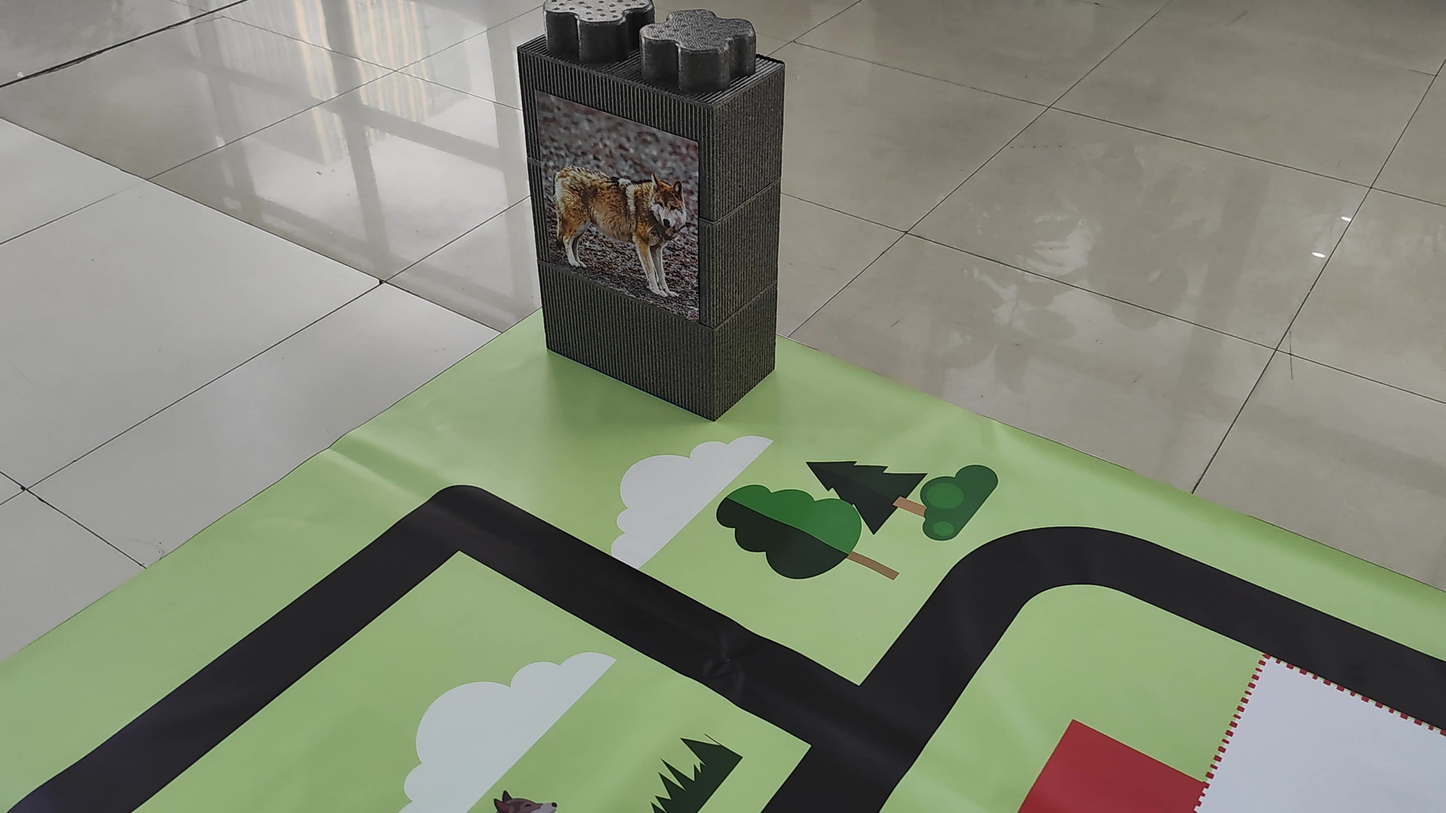wolf: (544, 136, 708, 307)
